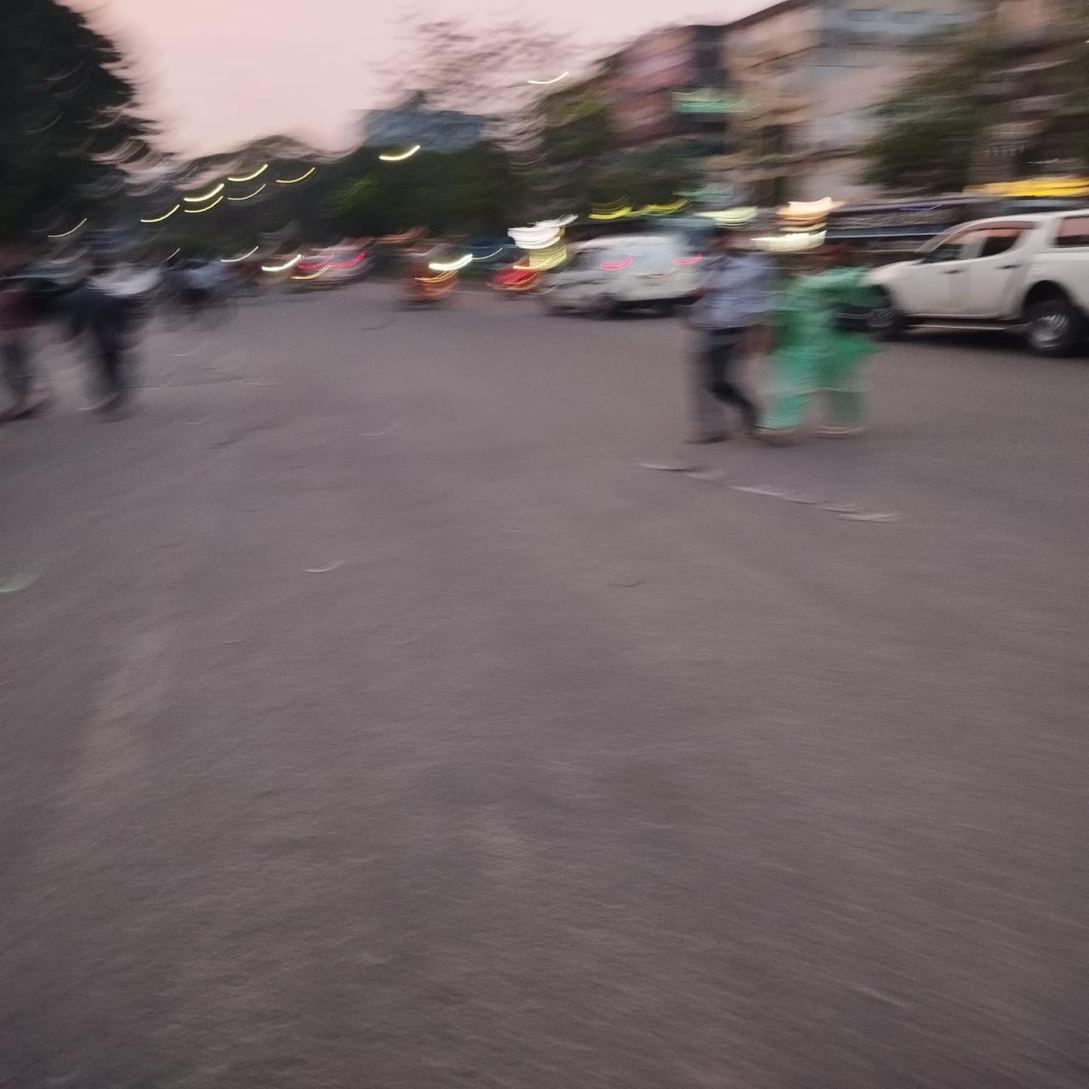person: (775, 243, 883, 450), (684, 218, 773, 454)
